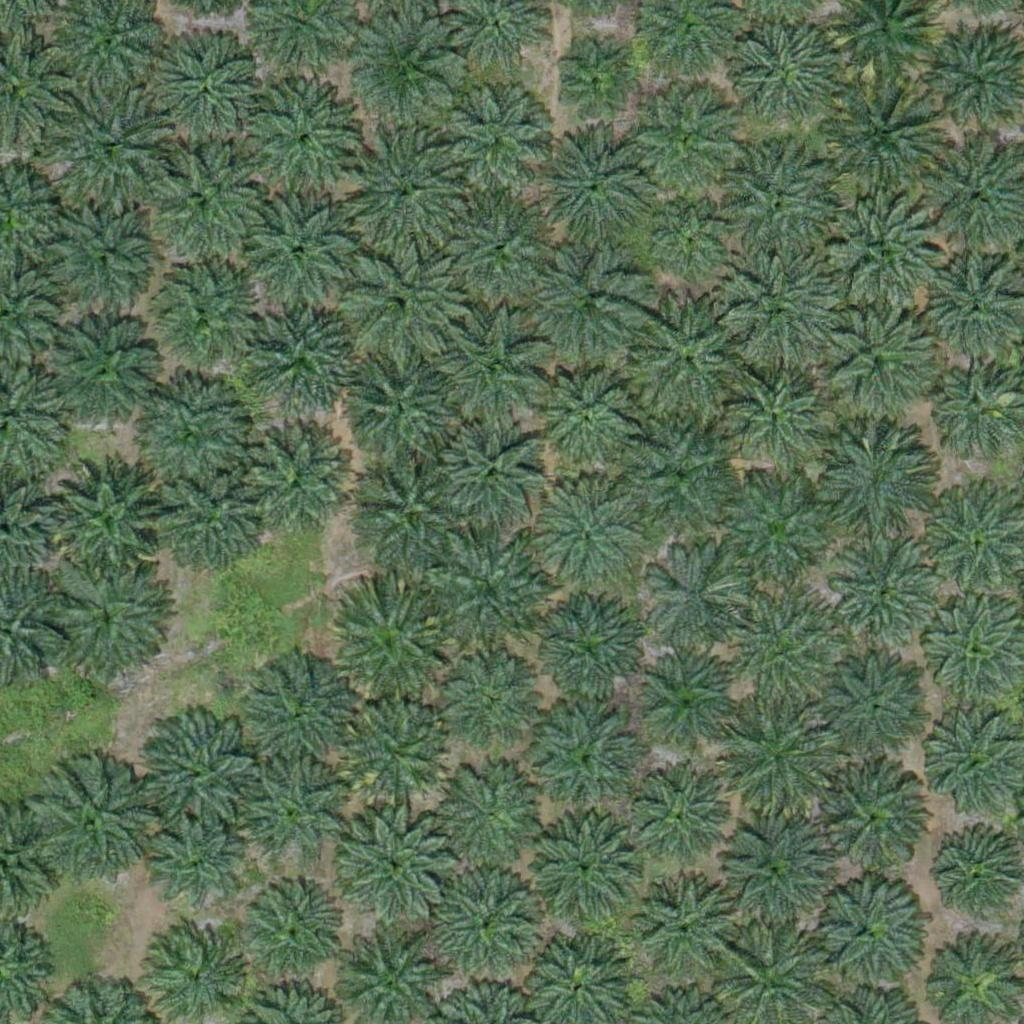Kelapa_Sawit: (130, 142, 255, 268), (43, 453, 168, 579), (47, 557, 172, 683), (340, 127, 465, 253), (336, 242, 461, 368), (632, 298, 757, 424), (718, 145, 843, 271), (134, 711, 259, 837), (28, 764, 153, 890), (135, 253, 260, 378), (124, 371, 249, 496), (327, 586, 452, 711), (723, 20, 836, 134), (441, 193, 554, 307), (438, 86, 551, 200), (814, 651, 927, 765), (349, 14, 462, 127), (44, 316, 157, 429), (45, 202, 158, 315), (58, 87, 171, 200), (150, 461, 263, 574), (437, 418, 550, 531), (434, 314, 547, 427), (533, 598, 646, 711), (724, 250, 837, 363), (818, 427, 931, 540), (821, 307, 934, 420), (826, 203, 939, 316), (523, 809, 636, 922), (341, 805, 454, 918), (533, 134, 645, 248), (535, 248, 647, 362), (623, 427, 735, 541), (718, 478, 830, 592), (832, 537, 944, 651), (814, 759, 926, 873), (809, 872, 921, 986), (723, 698, 835, 812), (160, 37, 272, 150), (241, 424, 353, 537), (248, 299, 360, 412), (240, 196, 352, 309), (245, 86, 357, 199), (345, 356, 457, 469), (352, 454, 464, 567), (434, 541, 546, 654), (722, 598, 834, 711), (827, 79, 939, 192), (716, 817, 828, 930), (432, 757, 544, 870), (433, 867, 545, 980), (541, 483, 641, 584), (635, 654, 735, 755), (635, 96, 735, 197), (628, 765, 728, 866), (632, 872, 732, 973), (536, 707, 636, 808), (439, 650, 539, 751), (345, 700, 445, 801), (255, 662, 355, 763), (243, 760, 343, 861), (239, 881, 339, 982), (145, 813, 245, 914), (534, 366, 634, 466), (641, 551, 741, 651), (727, 362, 827, 462), (554, 46, 629, 122), (656, 205, 731, 281)
